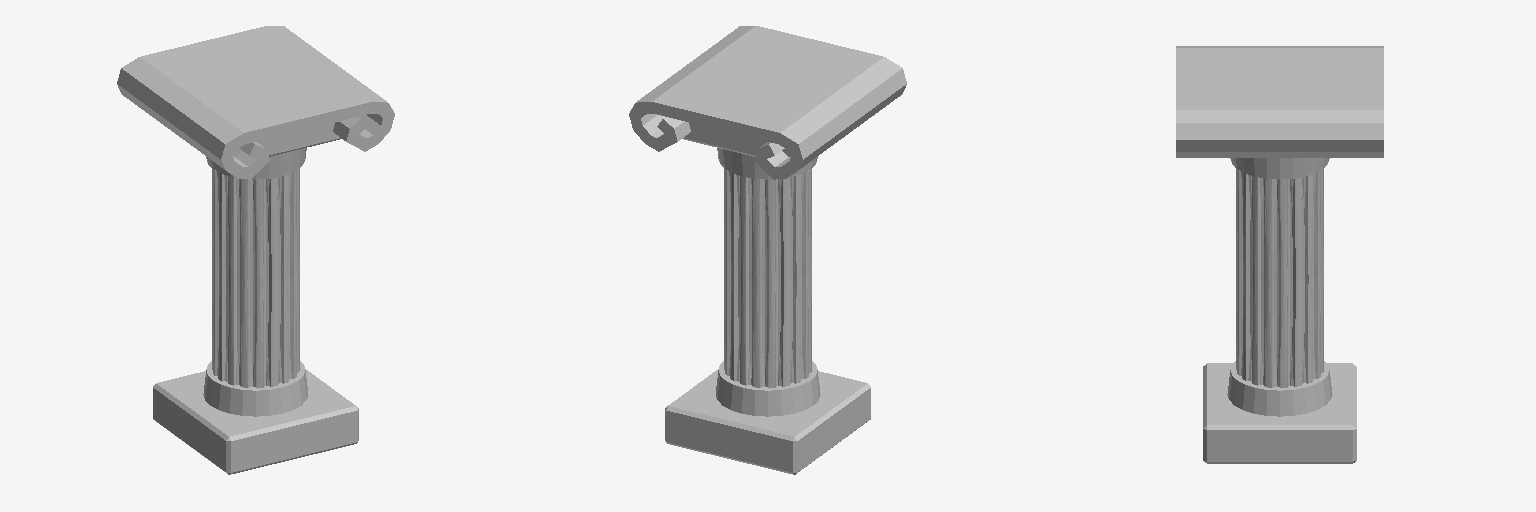
File: pillar.obj
3 renders of one model, left to right at view 1: azimuth 30°, elevation 25°; view 2: azimuth 150°, elevation 25°; view 3: azimuth 270°, elevation 25°, orthographic.
Visible parts, largest first — view 1: Top_Curl, HyperNURBS, Cube, Cylin, Cube1, Cylinder; view 2: Top_Curl, HyperNURBS, Cube, Cylin, Cube1, Cylinder; view 3: Top_Curl, HyperNURBS, Cube, Cylin, Cylinder.
Part boxes in pixels (x1,y1,x2,y2): Top_Curl: (117,26,394,179); HyperNURBS: (212,169,299,387); Cube: (153,370,358,474); Cylin: (203,361,307,416); Cube1: (233,123,341,156); Cylinder: (206,148,306,179); Top_Curl: (629,26,906,179); HyperNURBS: (724,169,811,387); Cube: (665,370,870,474); Cylin: (716,361,820,416); Cube1: (682,123,790,156); Cylinder: (717,148,817,179); Top_Curl: (1176,46,1383,157); HyperNURBS: (1236,169,1323,387); Cube: (1203,363,1356,463); Cylin: (1227,361,1332,416); Cylinder: (1230,158,1329,179).
Size of the model in its own units: 6.47 by 12.56 by 6.71.